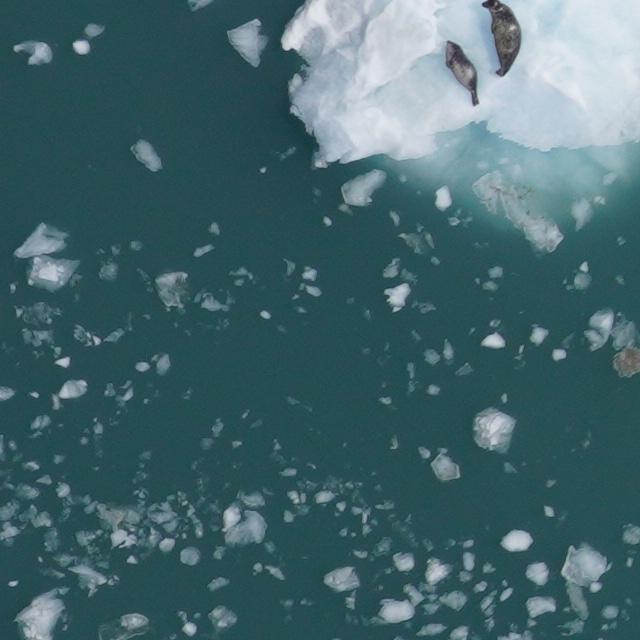seal: (431, 34, 494, 105), (480, 0, 522, 75)
